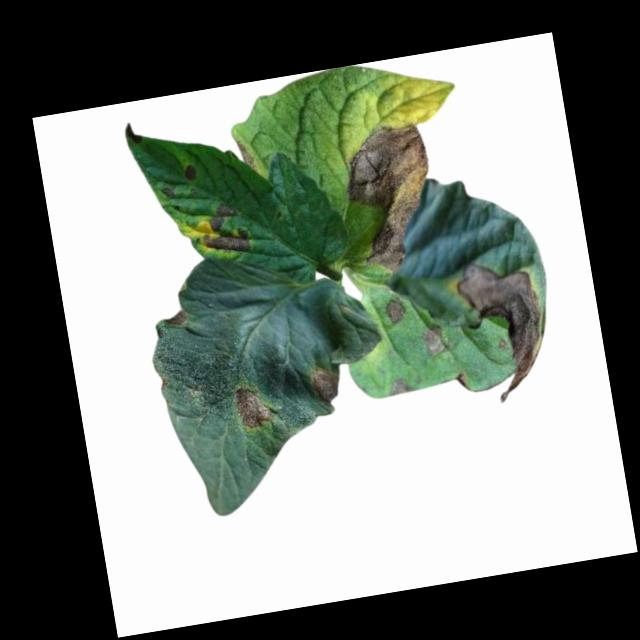Early_blight: (345, 118, 447, 279), (454, 254, 556, 409), (196, 198, 254, 262), (232, 382, 276, 432), (305, 362, 342, 408), (422, 322, 451, 358), (236, 138, 255, 174), (383, 297, 405, 327), (162, 309, 190, 332), (387, 377, 415, 398), (123, 120, 141, 147), (181, 161, 197, 183), (453, 371, 470, 390), (160, 186, 176, 199)
